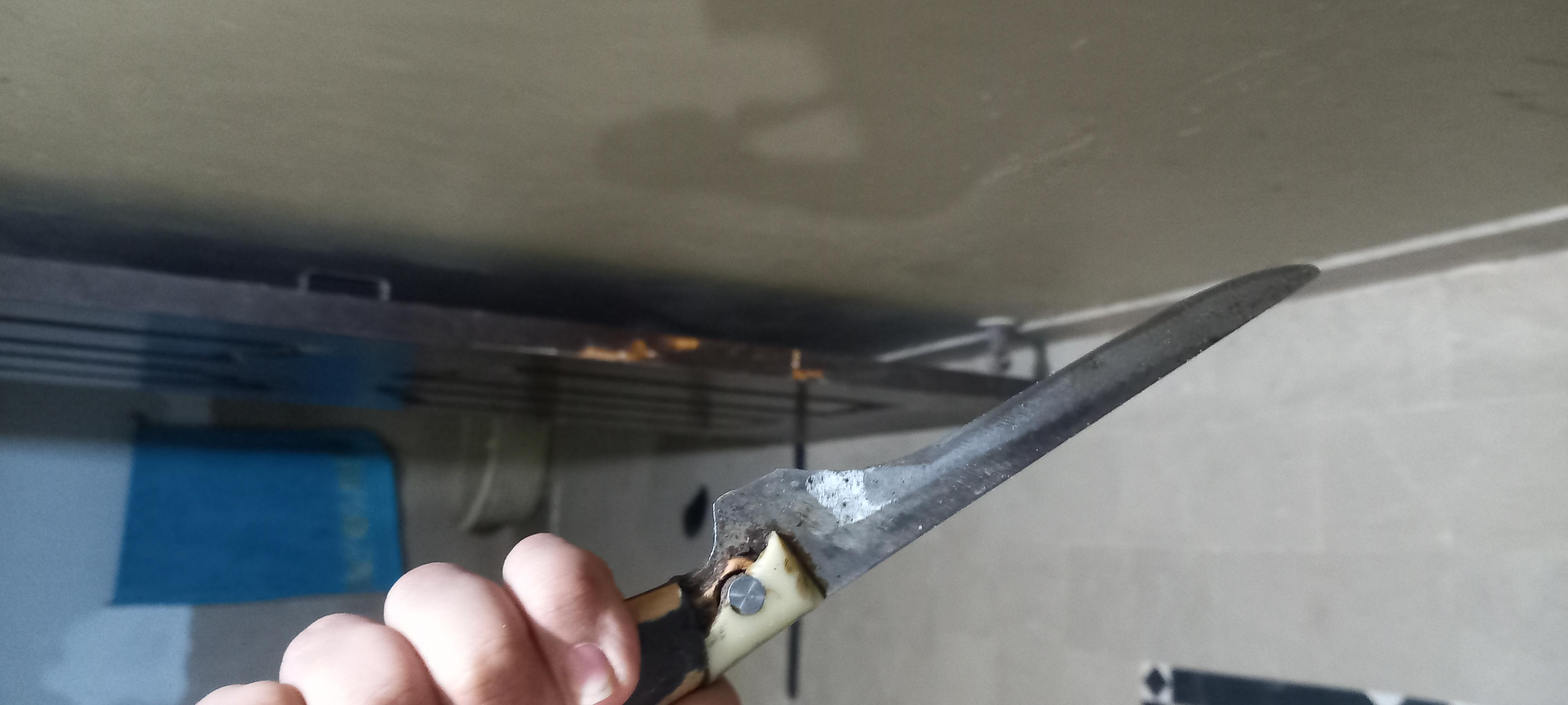knives: (1, 223, 1011, 595)
